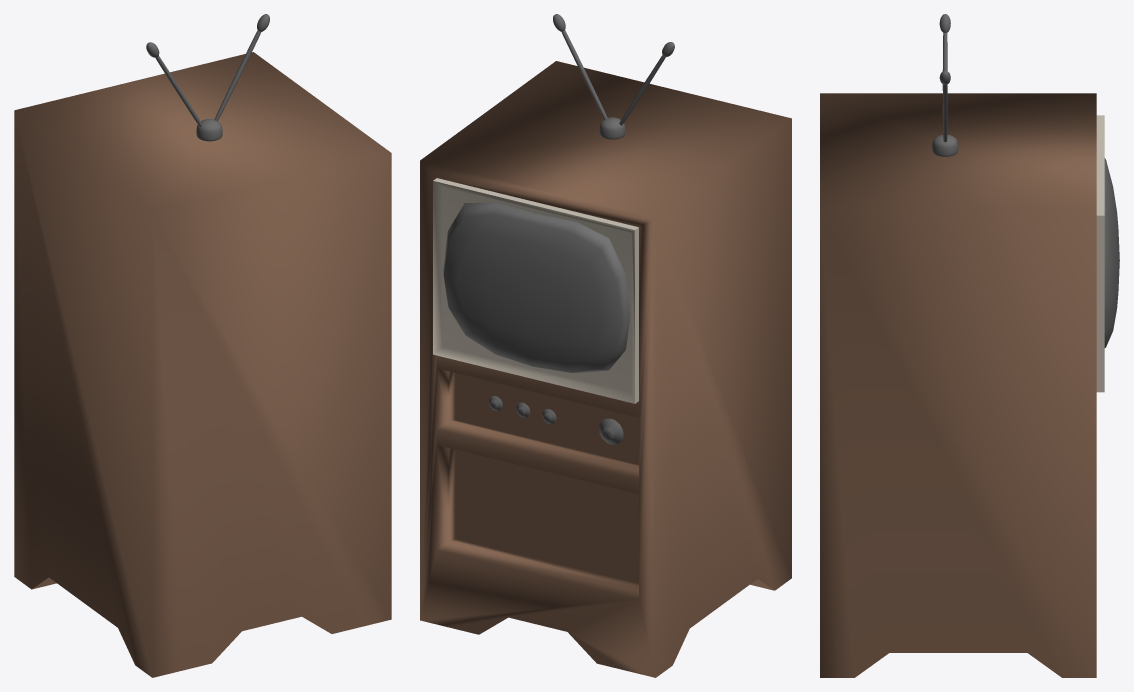
File: tvwithcolor.fbx
3 views of the same model, side by side, from view 1: azimuth 30°, elevation 25°; view 2: azimuth 150°, elevation 25°; view 3: azimuth 270°, elevation 25° (orthographic).
Parts seen in each view (by area): view 1: pCube14, pCylinder7, pCylinder6; view 2: pCube14, pCube5, pCube3, pCylinder7, pCylinder6; view 3: pCube14, pCube3, pCube5, pSphere1.
Boxes of the visible parts, x1,y1,x2,y2 form: pCube14: [14, 52, 391, 677]; pCylinder7: [214, 14, 269, 121]; pCylinder6: [146, 42, 202, 126]; pCube14: [420, 61, 791, 677]; pCube5: [443, 202, 630, 373]; pCube3: [433, 178, 638, 403]; pCylinder7: [553, 14, 607, 119]; pCylinder6: [619, 42, 674, 125]; pCube14: [820, 93, 1096, 677]; pCube3: [1096, 115, 1104, 392]; pCube5: [1104, 158, 1119, 347]; pSphere1: [932, 134, 958, 156].
Size of the model in its own units: 9.04 by 20.77 by 9.79.
